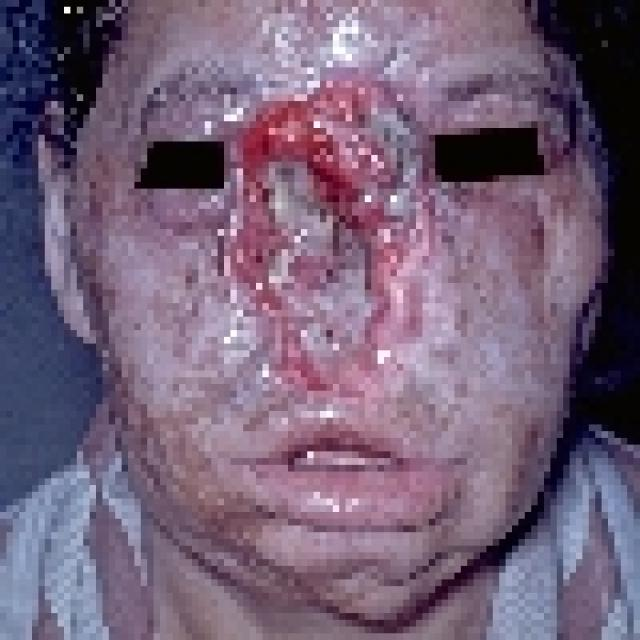lupus: (130, 37, 583, 576)
